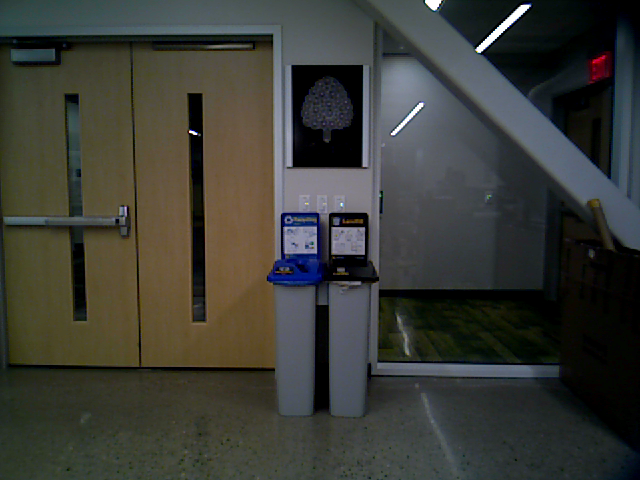painting1: (282, 62, 371, 176)
